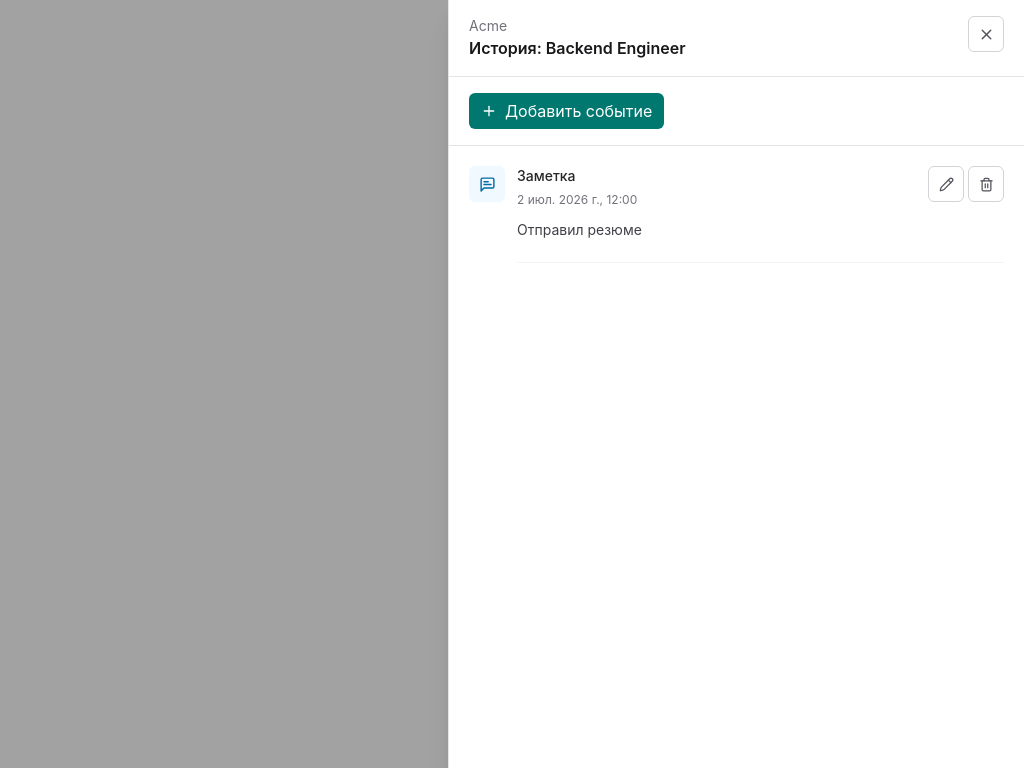
Test case: ActivityPanel › редактирует и удаляет существующее событие
Check: the text "Отправил резюме" is shown, box top-left (517, 221), bottom-right (642, 238)
Click the button named "Редактировать событие" at [946, 184], box top-left (928, 166), bottom-right (964, 202)
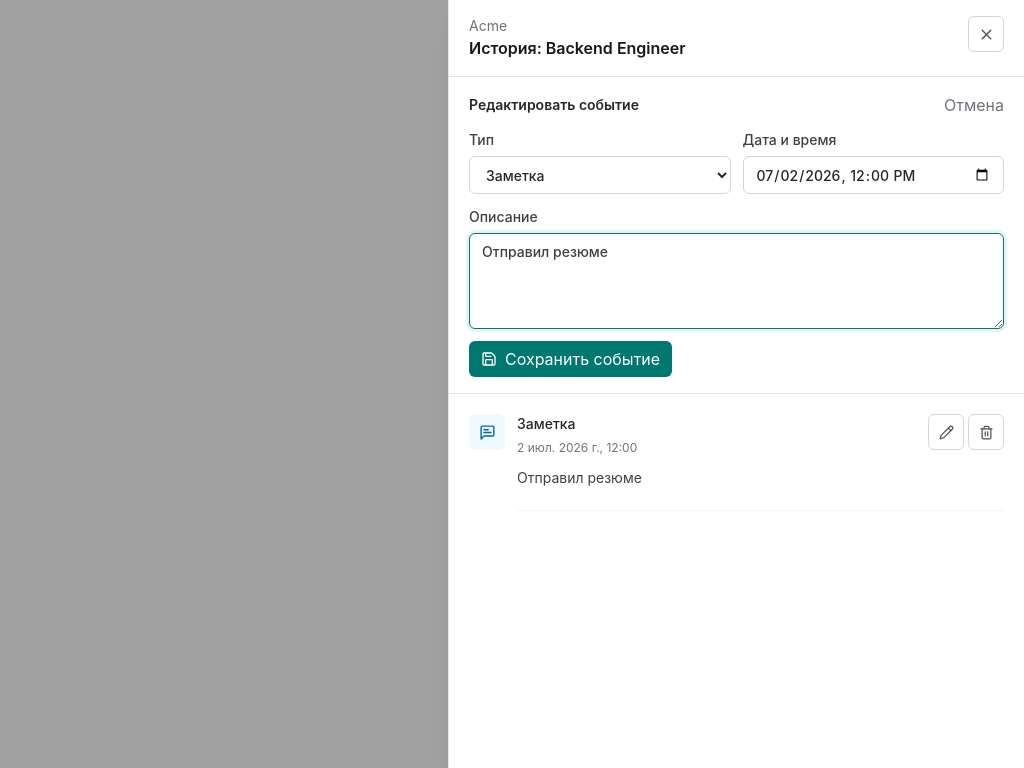
Replace the text in the text box labelled "Описание" with "Резюме принято рекрутером" at [736, 281], box top-left (469, 233), bottom-right (1004, 329)
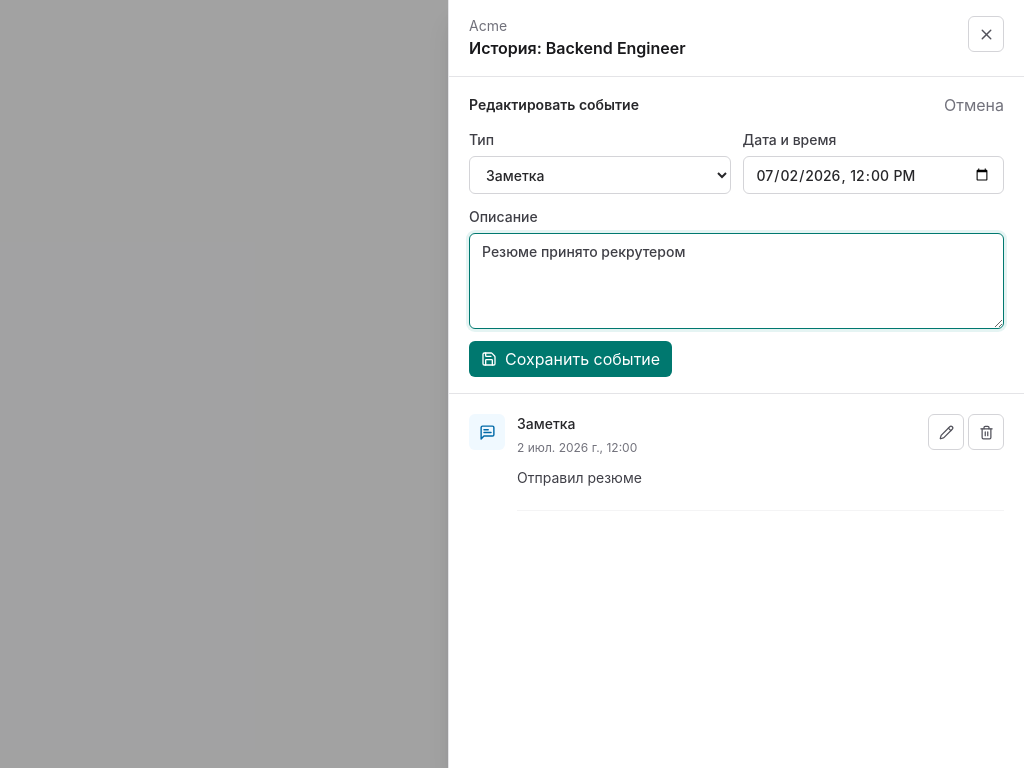
Click the button "Сохранить событие" at [571, 359], box top-left (469, 341), bottom-right (672, 377)
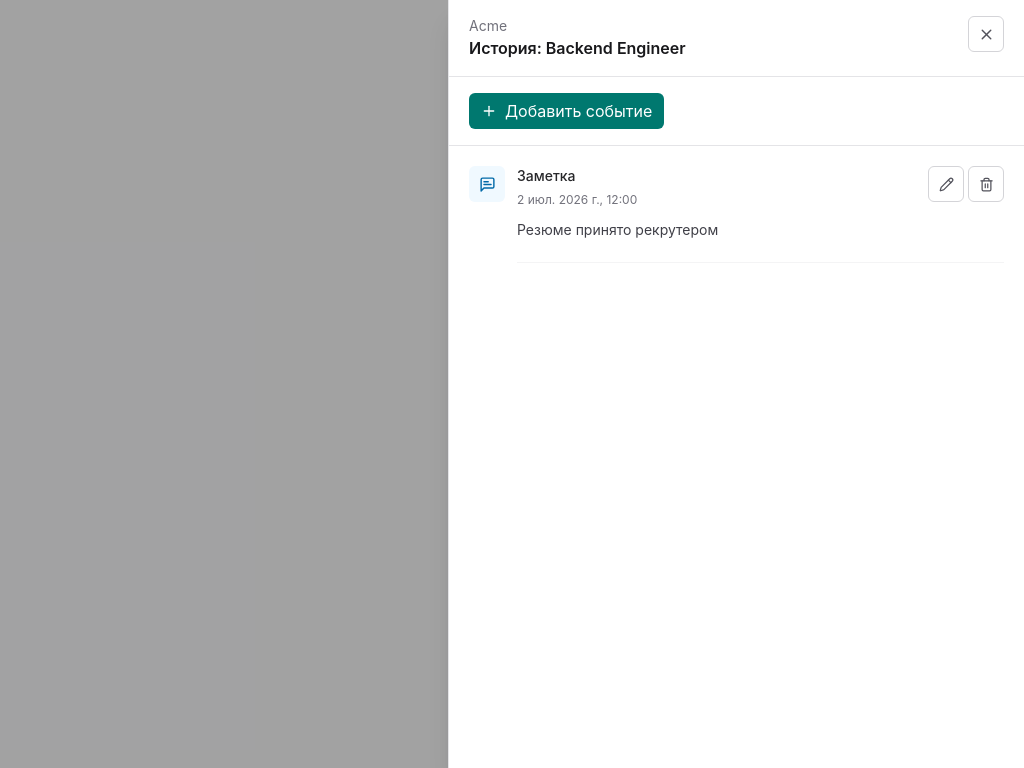
Check: the text "Резюме принято рекрутером" is shown, box top-left (517, 221), bottom-right (718, 238)
Click the button named "Удалить событие" at [986, 184], box top-left (968, 166), bottom-right (1004, 202)
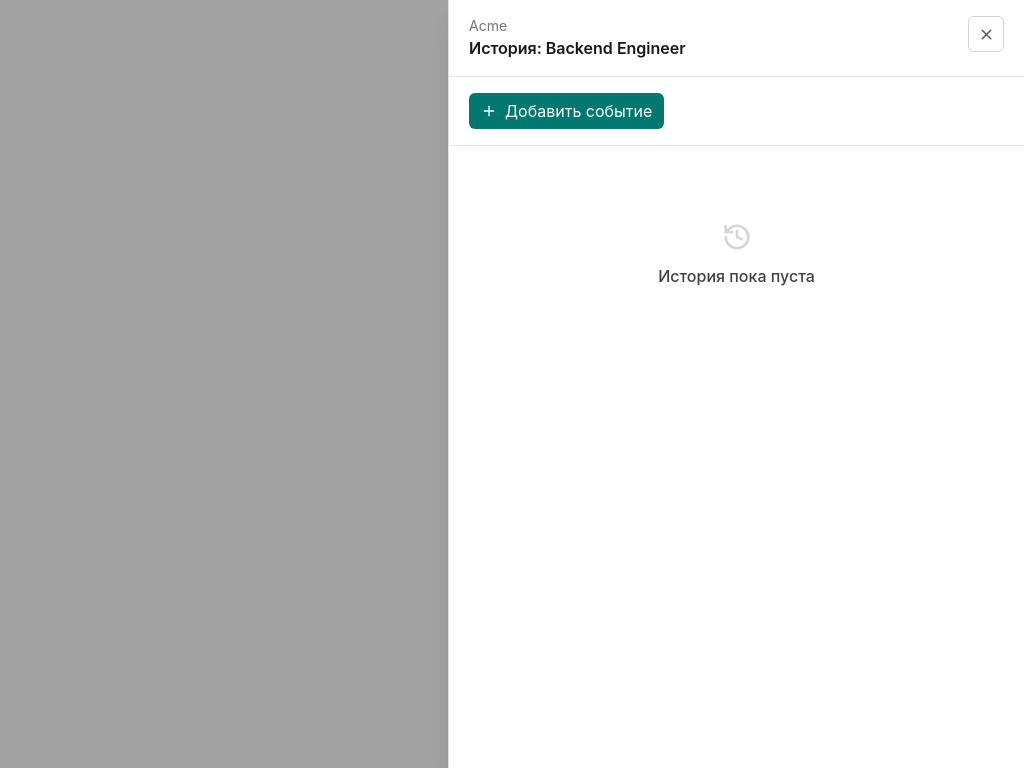
Check: the text "Резюме принято рекрутером" is gone
